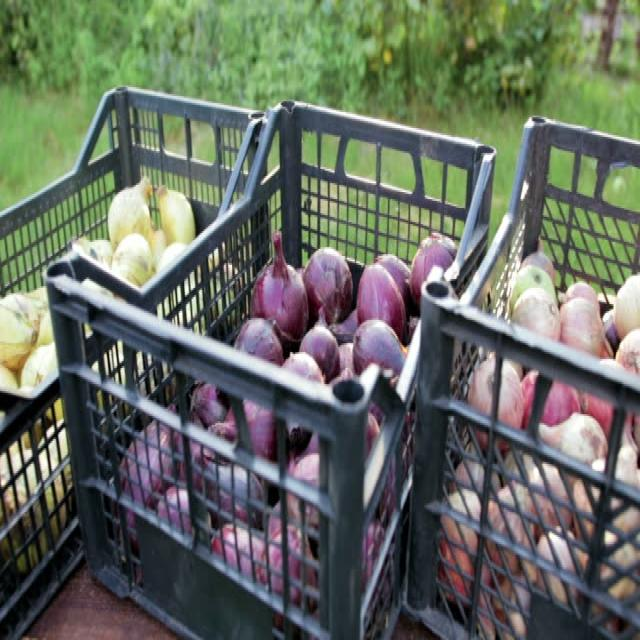basket: (0, 55, 509, 640), (407, 117, 640, 639), (0, 43, 292, 299)
